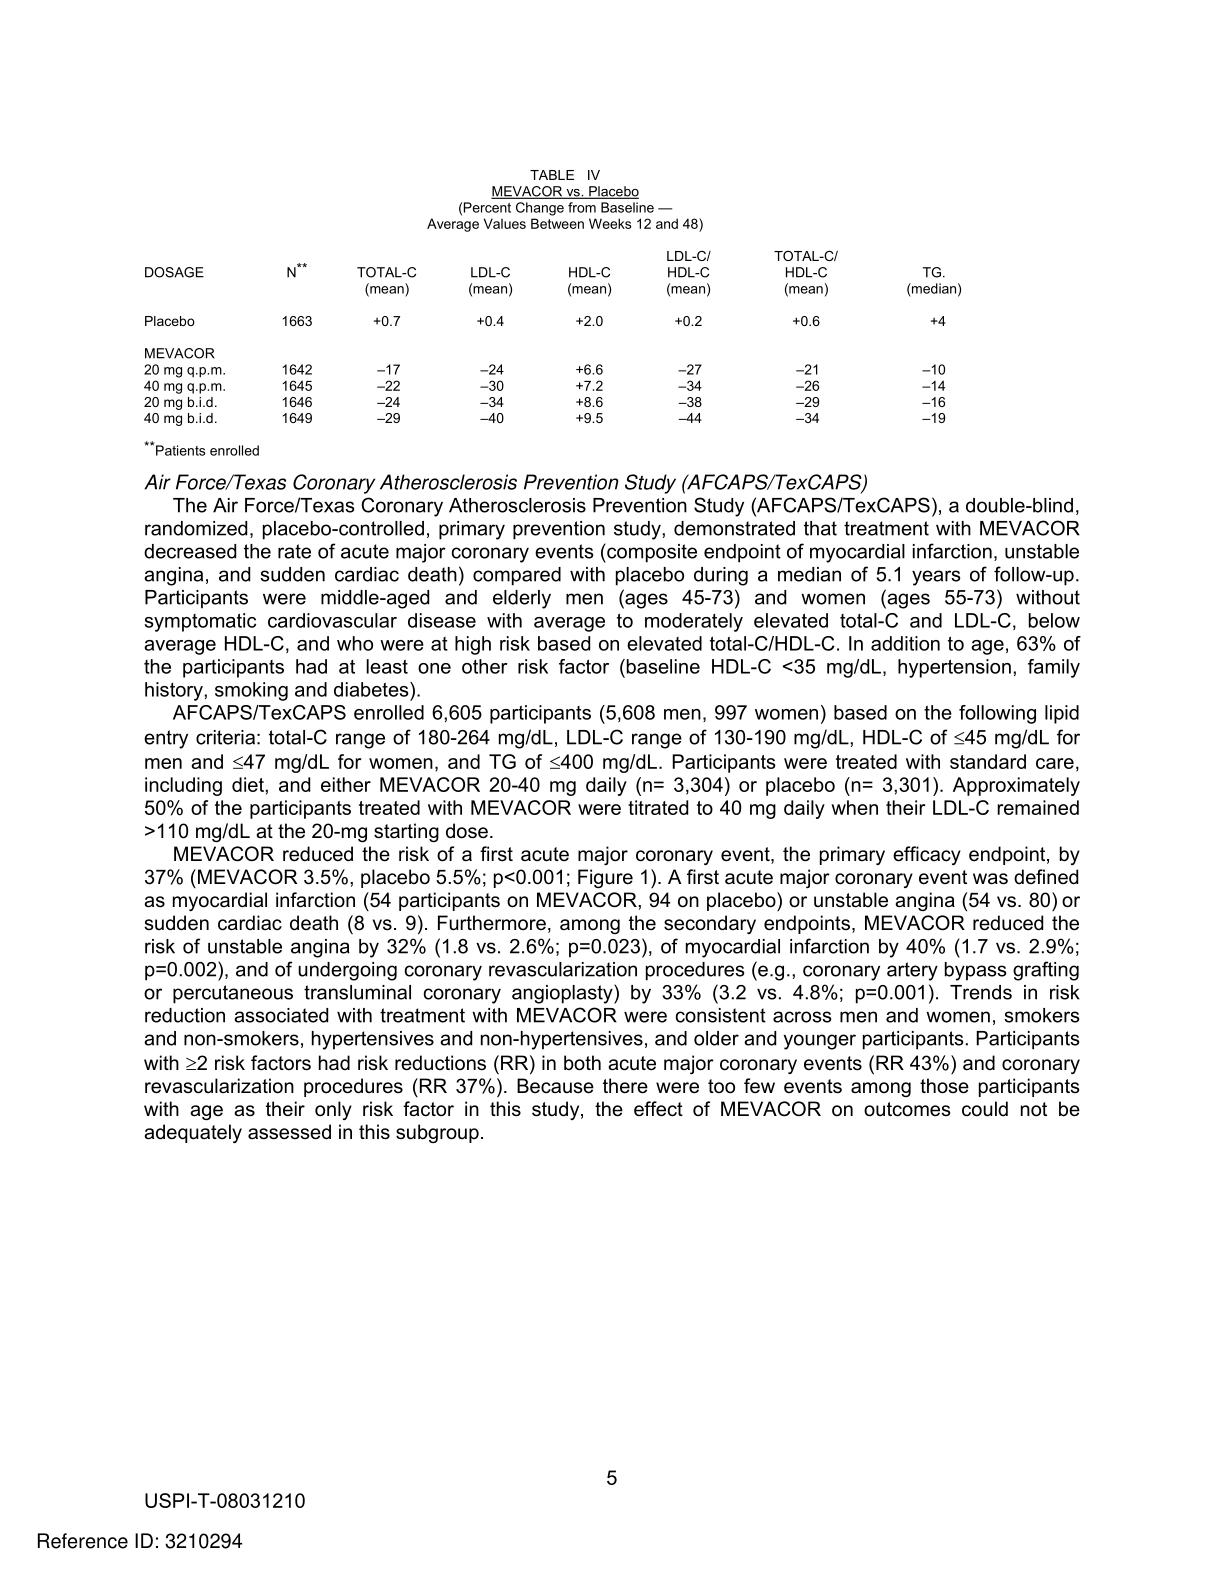nolines: (141, 248, 963, 429)
